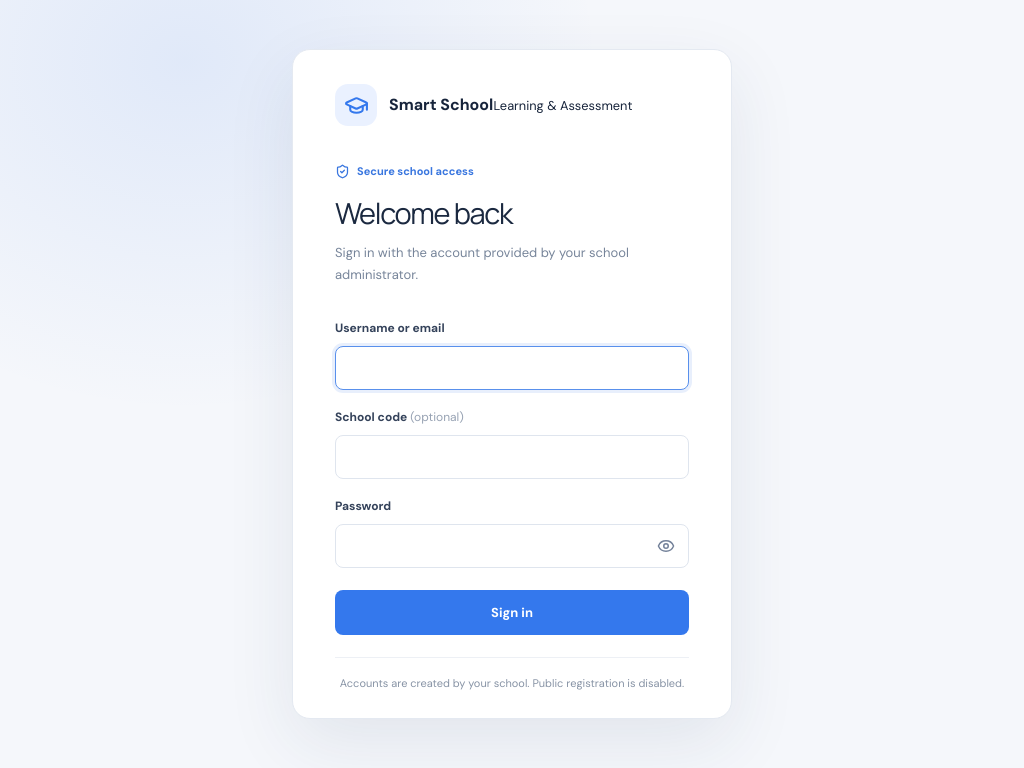
Test case: authentication flow › signs in and signs out through the protected workspace
Type "school-admin" into the field labelled "Username or email" at (512, 368), box [335,346,689,390]
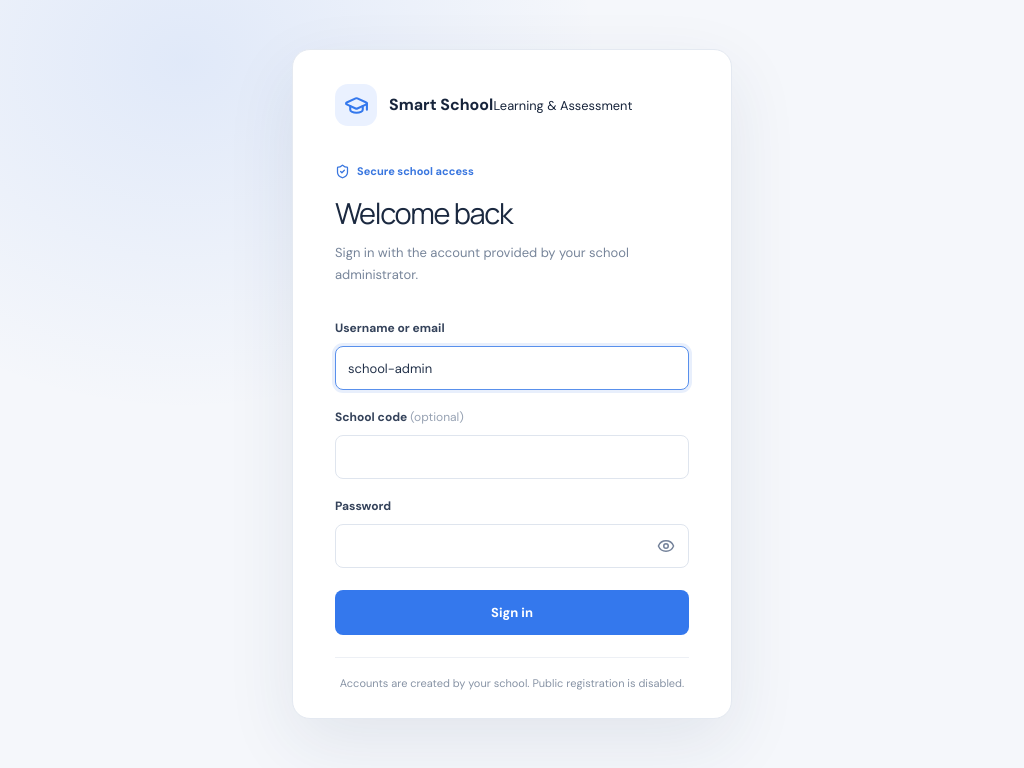
Type "correct password" into the password field labelled "Password" at (512, 546), box [335,524,689,568]
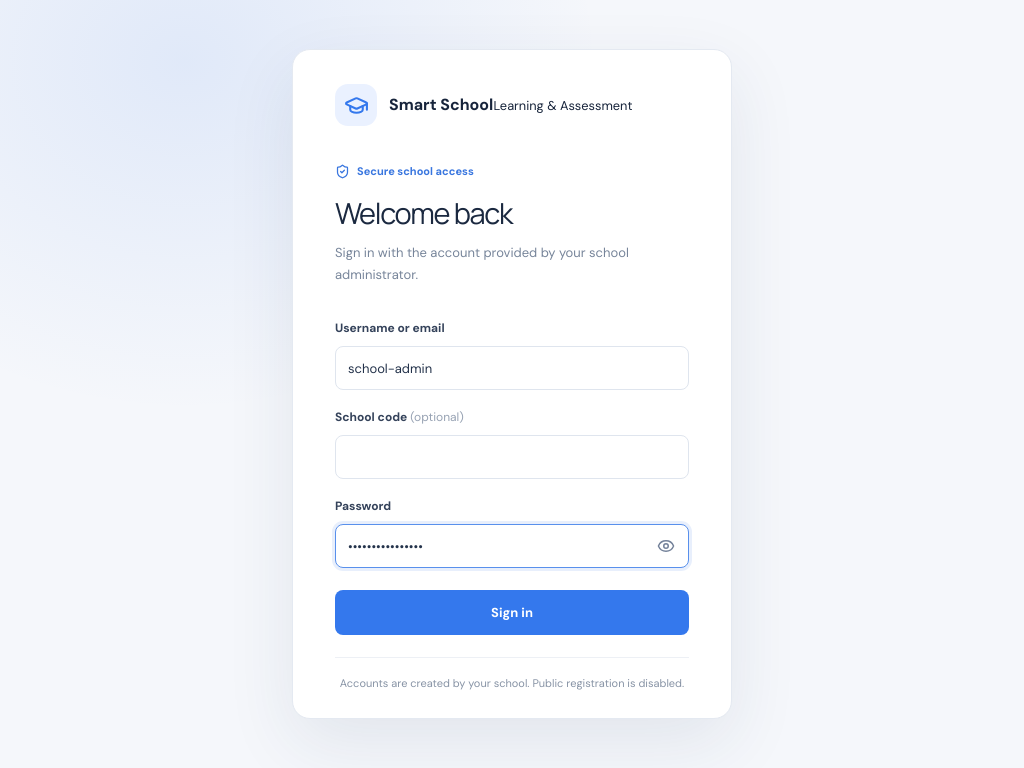
Click the button "Sign in" at (512, 613), box [335,590,689,635]
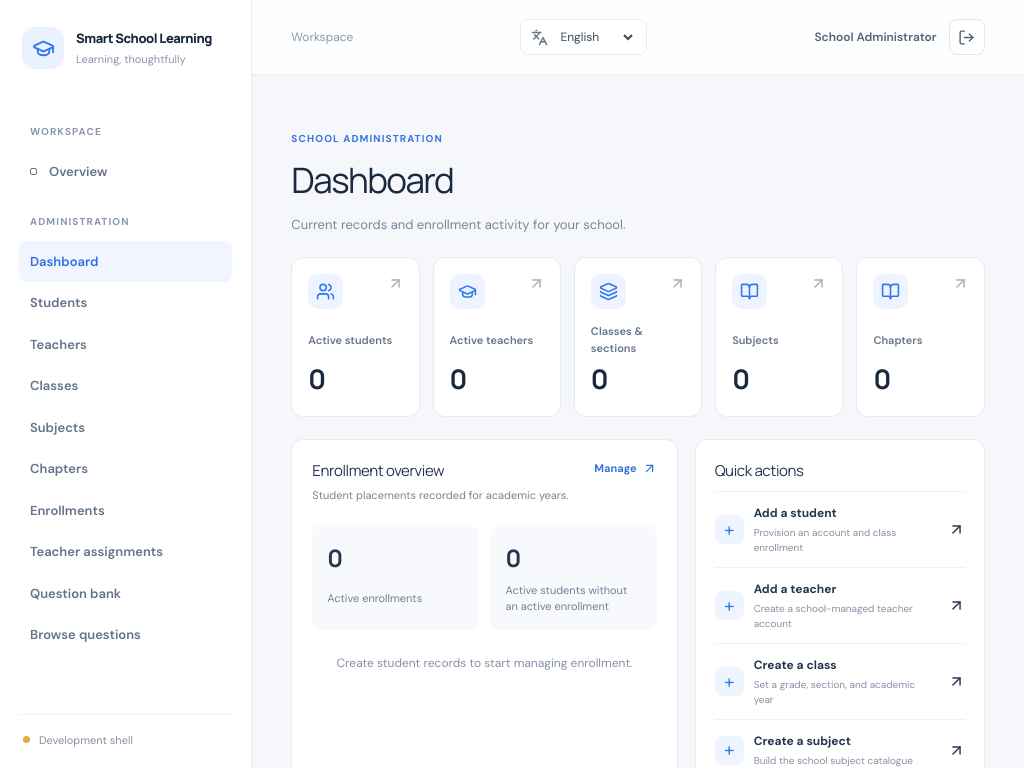
Check: the text "School Administrator" is shown, box [814,28,937,46]
Check: the heading "Dashboard" is shown, box [291,156,453,204]
Check: the text "Active students" is shown, box [308,332,403,348]
Click the button named "Sign out" at (967, 37), box [949,19,985,55]
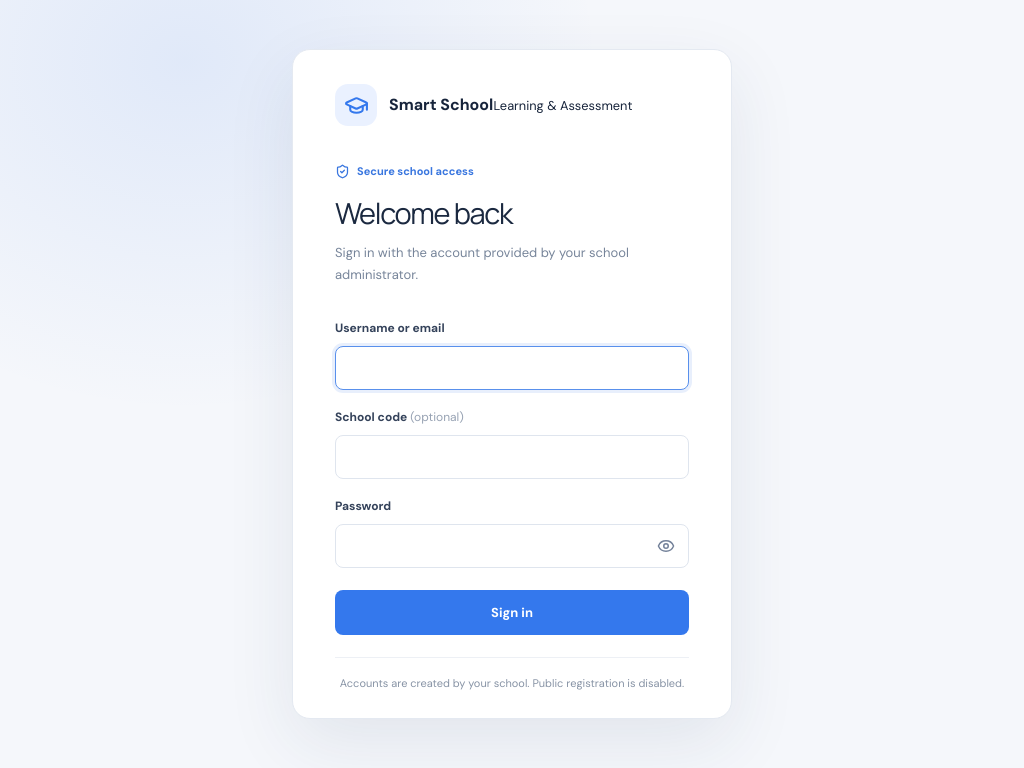
Check: the heading "Welcome back" is shown, box [335,193,512,233]
